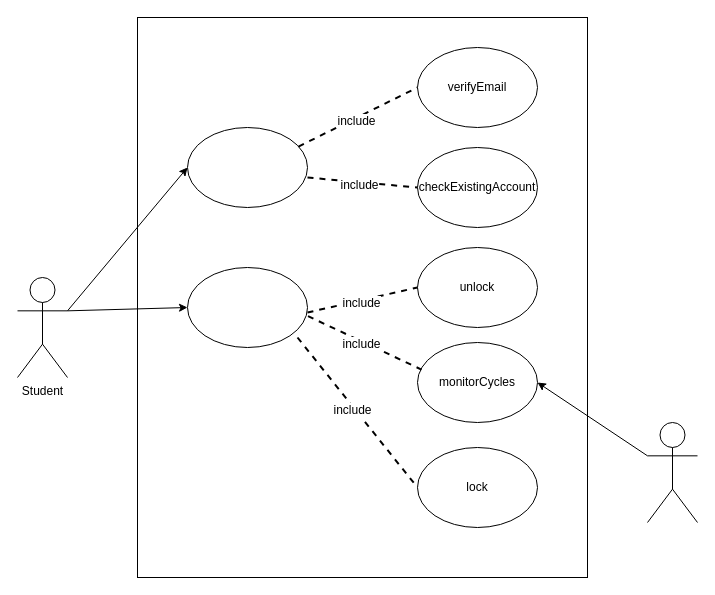
Some shapes in this 715 by 595 pixel diagram are drawn without their labels. The centre of each missing label's shape, as x and y in pixels:
Admin: [672,472]
getRide: [247,307]
register: [247,167]
